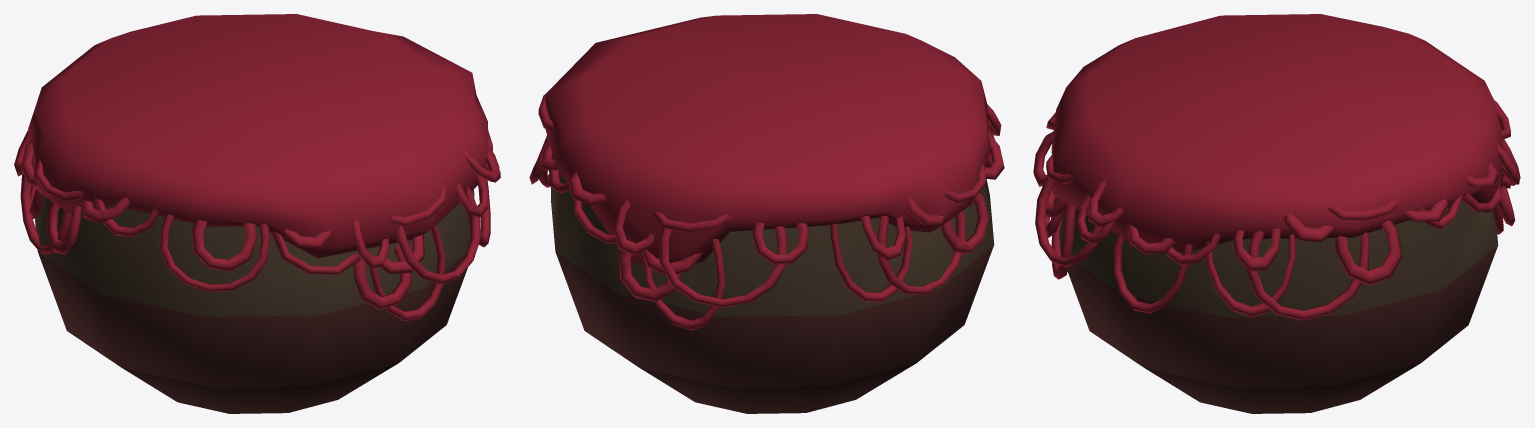
File: Alien_Island03.fbx
3 views of the same model, side by side, from view 1: azimuth 30°, elevation 25°; view 2: azimuth 150°, elevation 25°; view 3: azimuth 270°, elevation 25° (orthographic).
Parts seen in each view (by area): view 1: Alien_Island03; view 2: Alien_Island03; view 3: Alien_Island03.
Boxes of the visible parts, <box> form: Alien_Island03: <box>14,14,500,413</box>; Alien_Island03: <box>529,14,1004,413</box>; Alien_Island03: <box>1033,14,1520,413</box>.
Size of the model in its own units: 6464 by 4238 by 6472.
